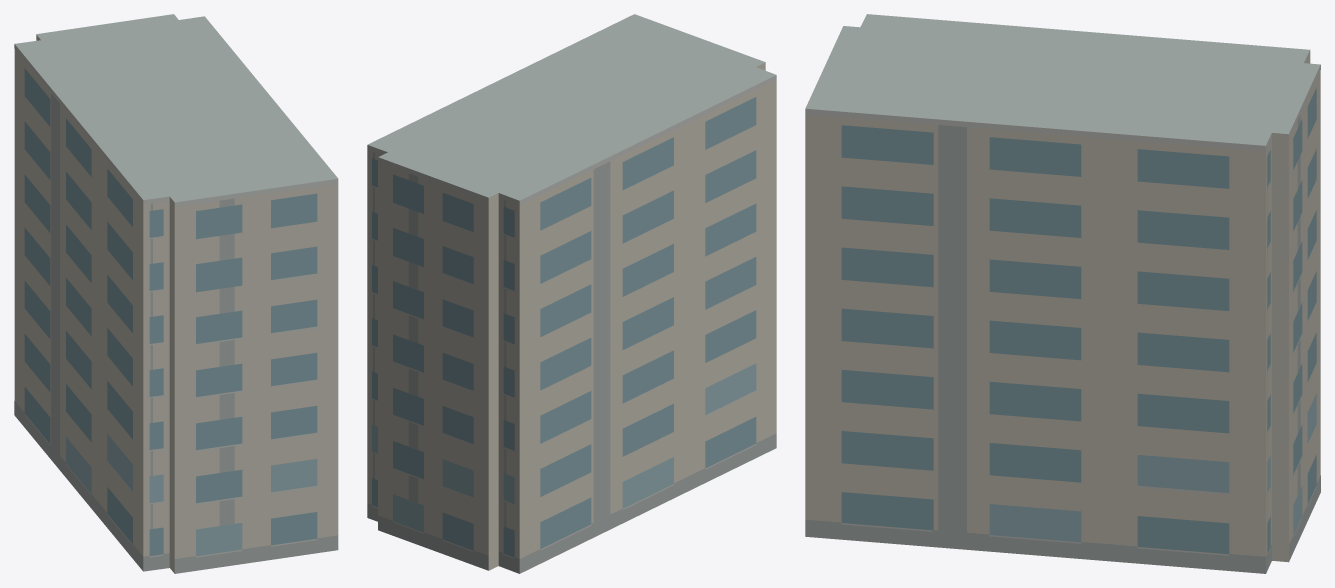
The model's file is survey-upis-32999708.glb.
3 views of the same model, side by side, from view 1: azimuth 30°, elevation 25°; view 2: azimuth 150°, elevation 25°; view 3: azimuth 270°, elevation 25° (orthographic). The views are drawn at different scales.
Parts seen in each view (by area): view 1: survey-upis-32999708.tmp; view 2: survey-upis-32999708.tmp; view 3: survey-upis-32999708.tmp.
Boxes of the visible parts, x1,y1,x2,y2 form: survey-upis-32999708.tmp: (14, 14, 338, 573); survey-upis-32999708.tmp: (367, 14, 776, 573); survey-upis-32999708.tmp: (805, 14, 1320, 573).
Bounding box in the file's own units: 12.7 × 19.2 × 20.97.
